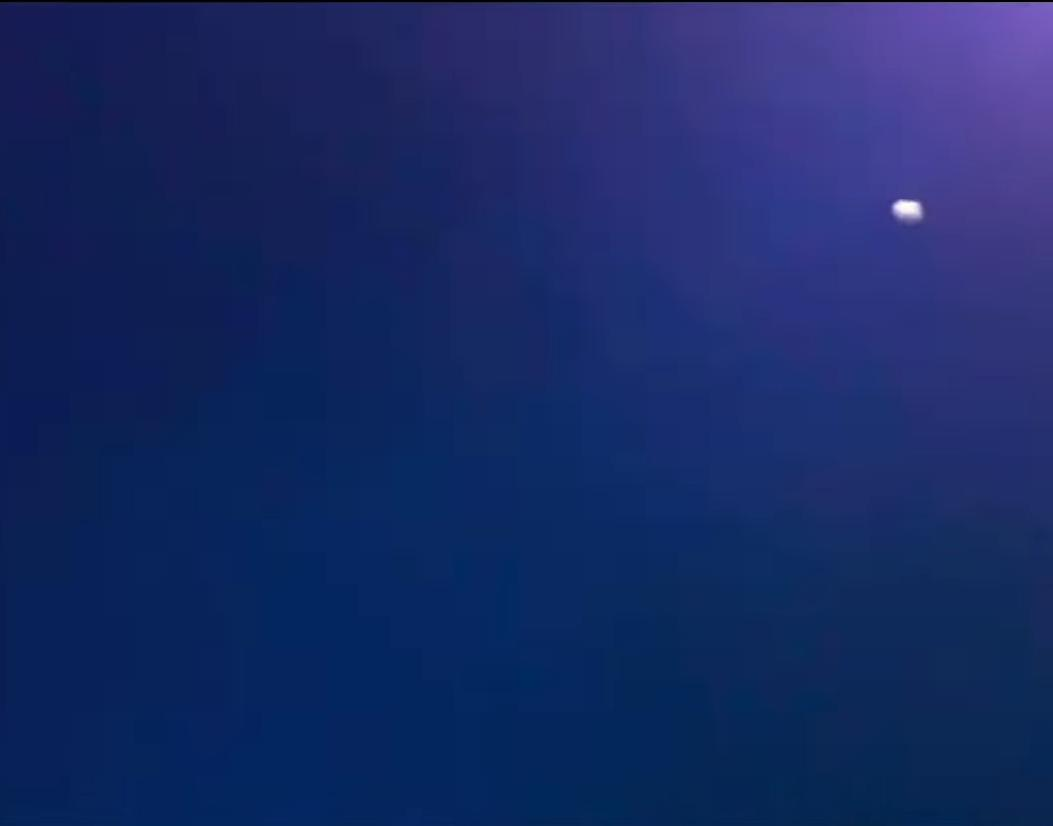Cricket-Ball: (886, 190, 930, 233)
